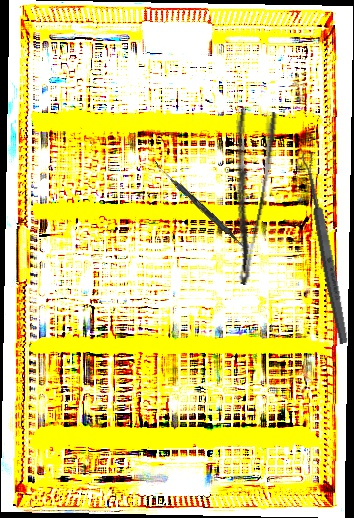Dressing Forceps: (208, 106, 281, 286)
Spatula Surgical: (150, 160, 252, 253)
Surgical Spoon: (300, 151, 351, 345)
